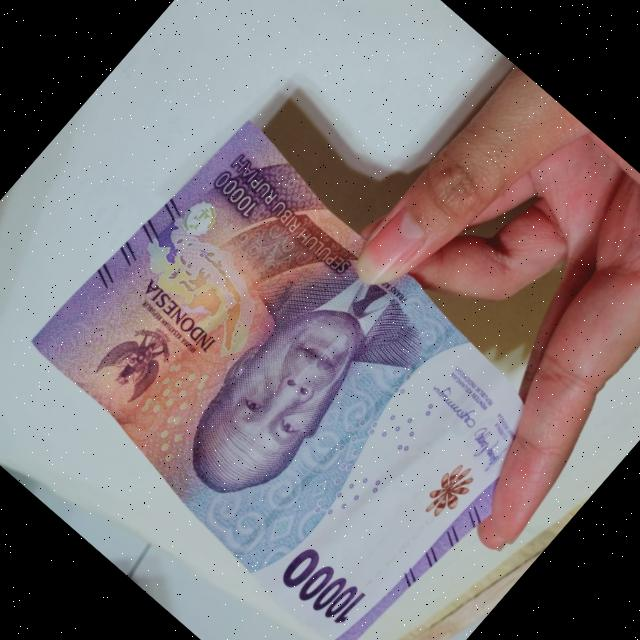10K: (1, 89, 600, 640)
